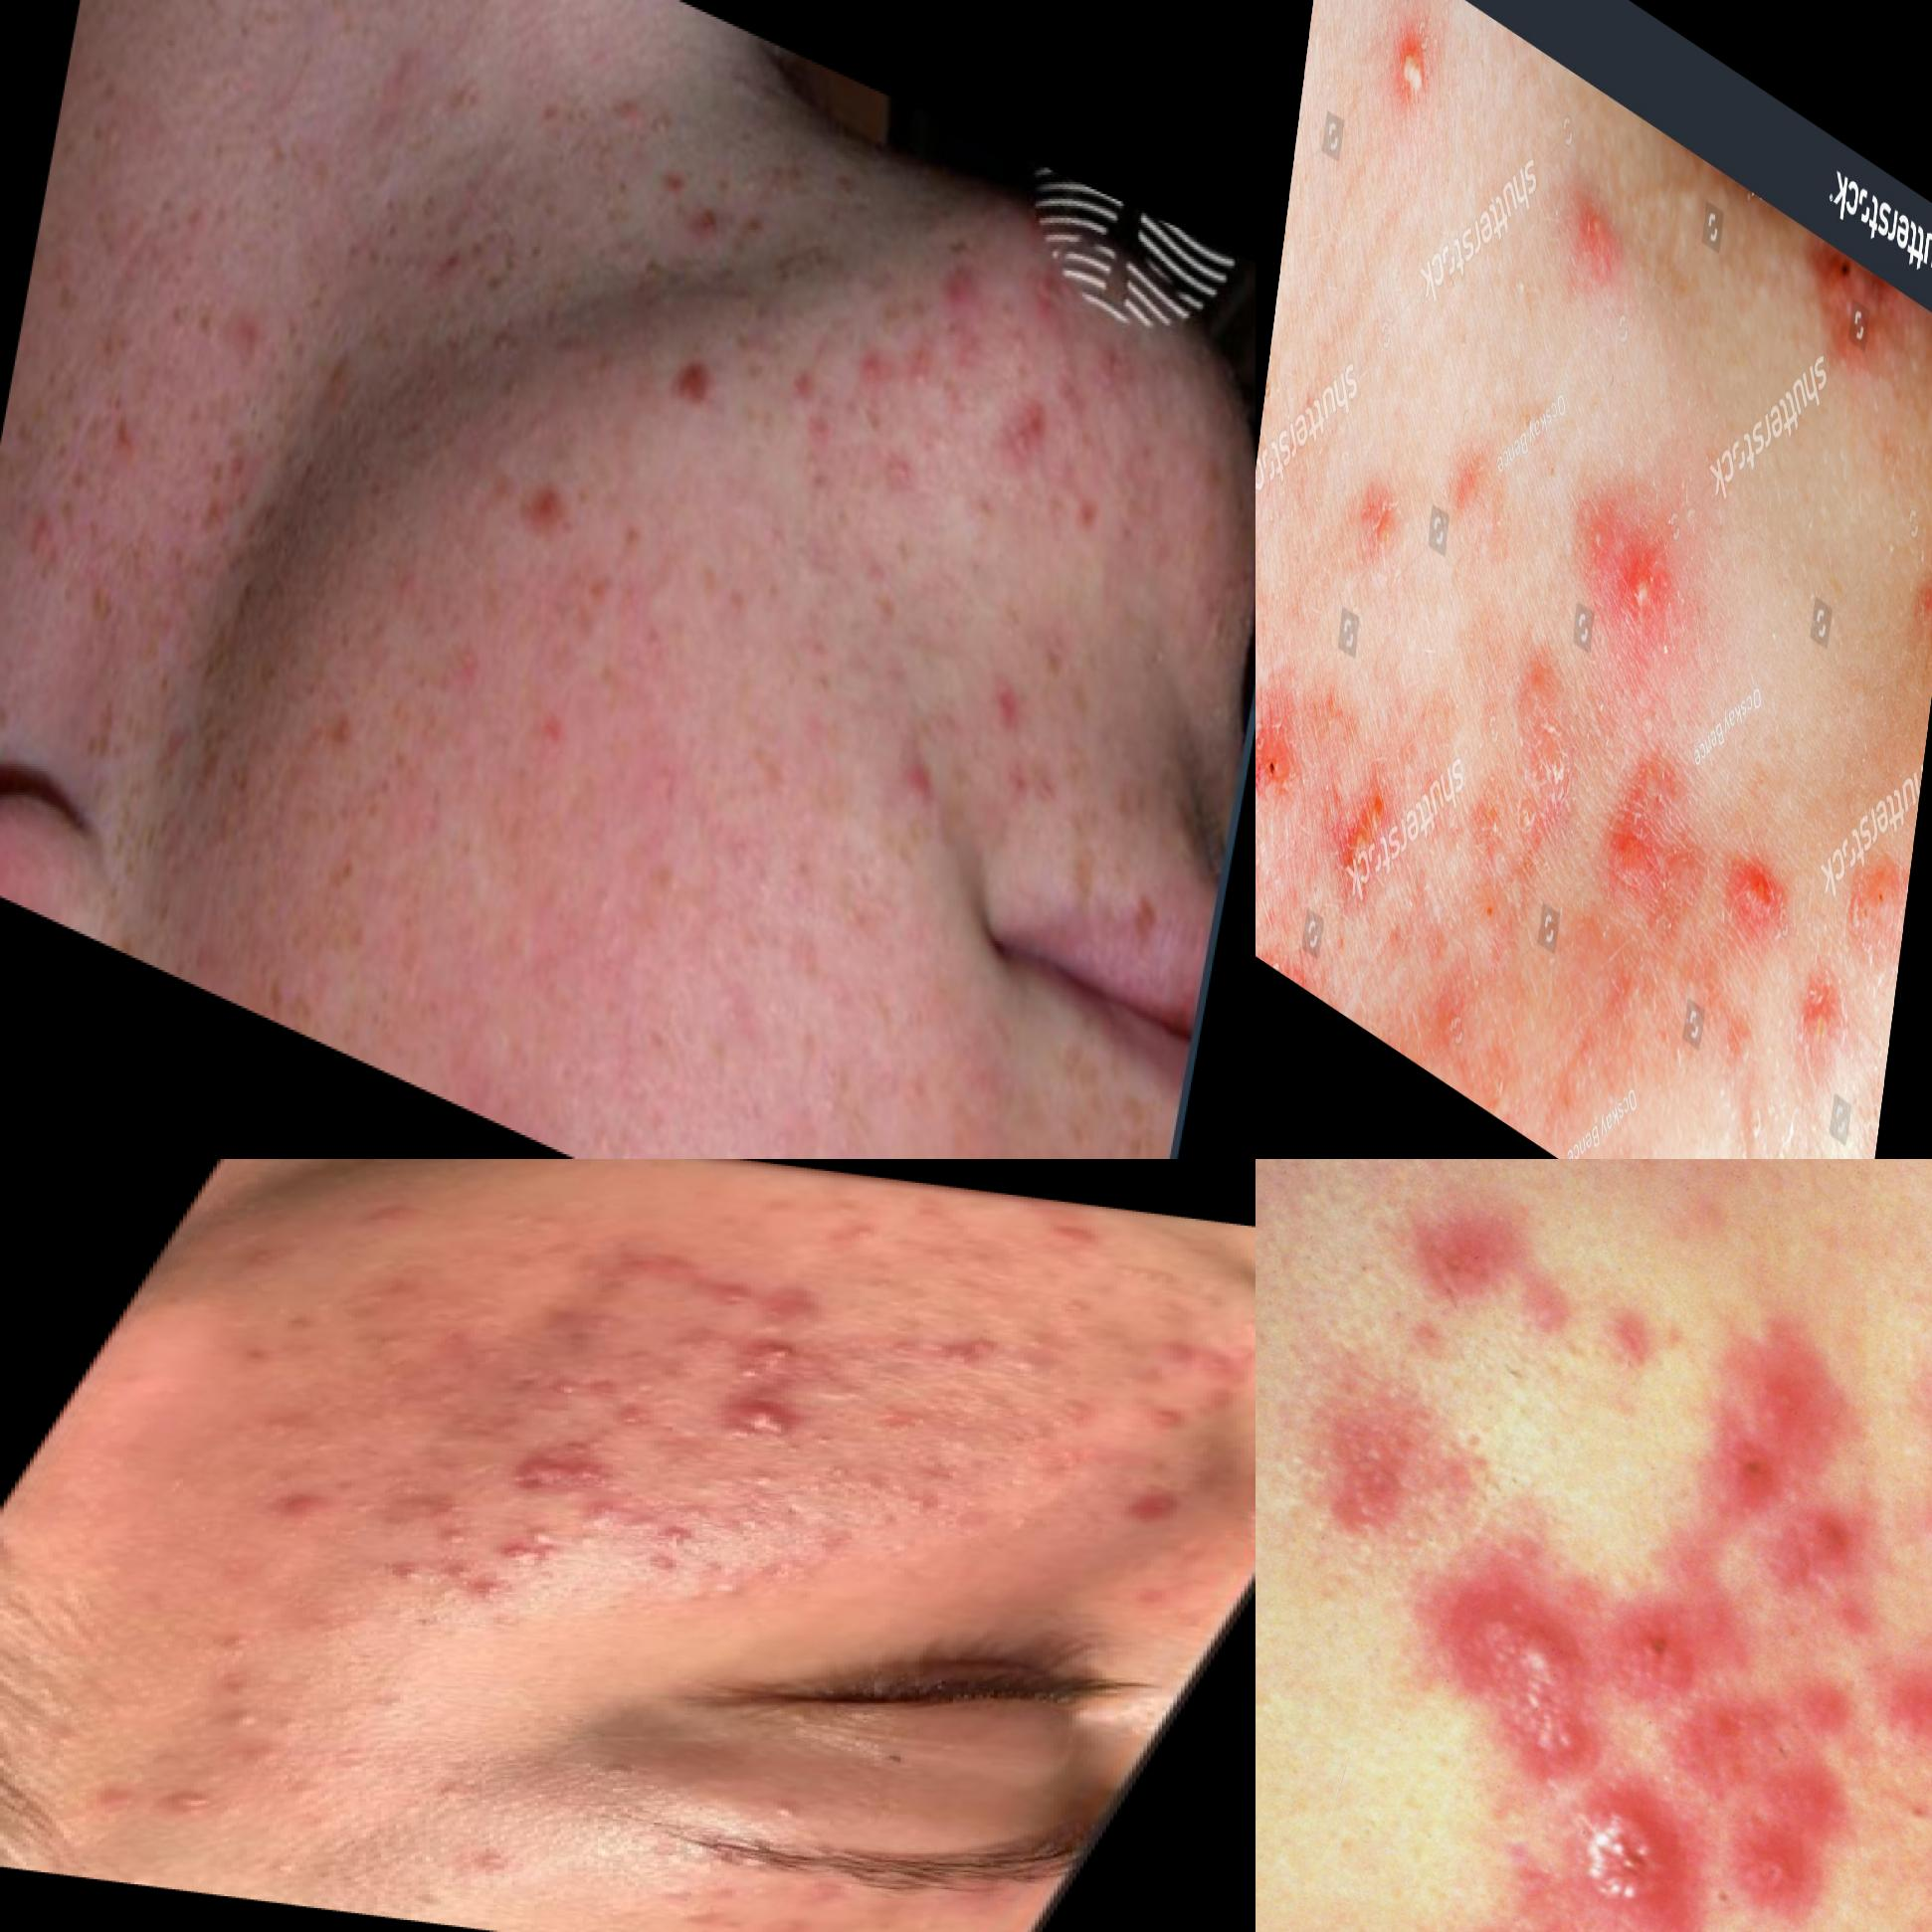papular: (1681, 1237, 1925, 1490), (1684, 1718, 1905, 1932), (1707, 819, 1796, 993), (1799, 218, 1888, 364), (876, 724, 968, 858), (708, 1281, 856, 1348), (1085, 1479, 1205, 1532), (911, 1329, 1026, 1380), (391, 1491, 492, 1536), (1169, 1334, 1256, 1384), (239, 1483, 343, 1523), (1118, 1330, 1208, 1371), (517, 1369, 610, 1408), (939, 244, 987, 313), (1118, 1401, 1203, 1438), (1033, 1217, 1115, 1254), (692, 1277, 771, 1313), (593, 1403, 665, 1435)
purulent: (115, 1776, 249, 1833), (1794, 943, 1845, 1081), (485, 1518, 596, 1576), (731, 1329, 839, 1378), (1392, 14, 1445, 113), (1617, 525, 1658, 637), (701, 1355, 787, 1391), (639, 1518, 717, 1553), (621, 1546, 701, 1580), (451, 1578, 522, 1608), (379, 1559, 439, 1587), (421, 1522, 481, 1550), (433, 1559, 492, 1587)
sebo-crystan-conglo: (1366, 1546, 1601, 1775), (1523, 1787, 1688, 1916), (453, 1440, 621, 1504), (681, 1392, 835, 1449), (1345, 748, 1401, 899), (1575, 179, 1615, 287)
whitehead: (165, 1697, 338, 1775), (968, 1315, 1086, 1396), (625, 1868, 768, 1932), (741, 1782, 867, 1840), (1150, 771, 1217, 867), (890, 320, 948, 428), (425, 1838, 538, 1893), (709, 1458, 810, 1500), (851, 317, 899, 405), (561, 1490, 653, 1530), (828, 1467, 911, 1502), (1100, 1260, 1194, 1290), (1171, 1284, 1244, 1316), (800, 1458, 863, 1493), (823, 1223, 895, 1253), (225, 1242, 292, 1274), (851, 1272, 908, 1297), (1046, 1295, 1100, 1320)
